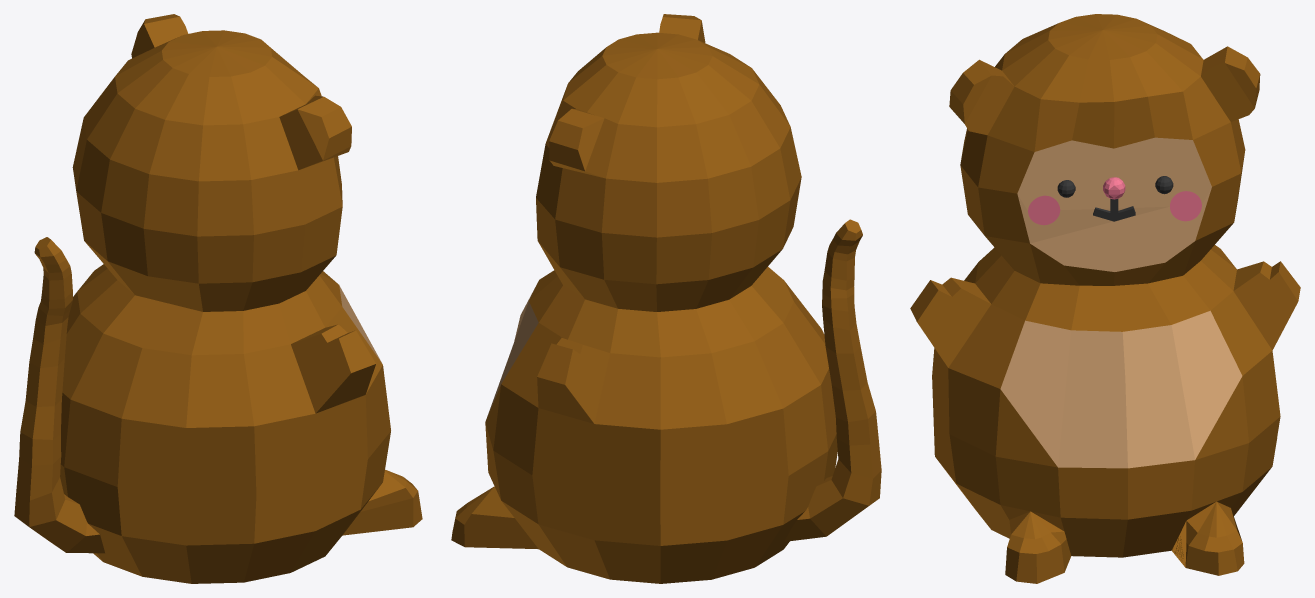
Rendered from monkeyStraightTail.fbx.
The picture shows the model from 3 angles, left to right: view 1: azimuth 30°, elevation 25°; view 2: azimuth 150°, elevation 25°; view 3: azimuth 270°, elevation 25°; orthographic projection.
Parts seen in each view (by area): view 1: Monkey.004; view 2: Monkey.004; view 3: Monkey.004.
Boxes of the visible parts, left/top/right/bottom form: Monkey.004: left=14, top=14, right=422, bottom=583; Monkey.004: left=451, top=14, right=881, bottom=583; Monkey.004: left=910, top=14, right=1300, bottom=583.
Bounding box in the file's own units: 297 × 365 × 272.
